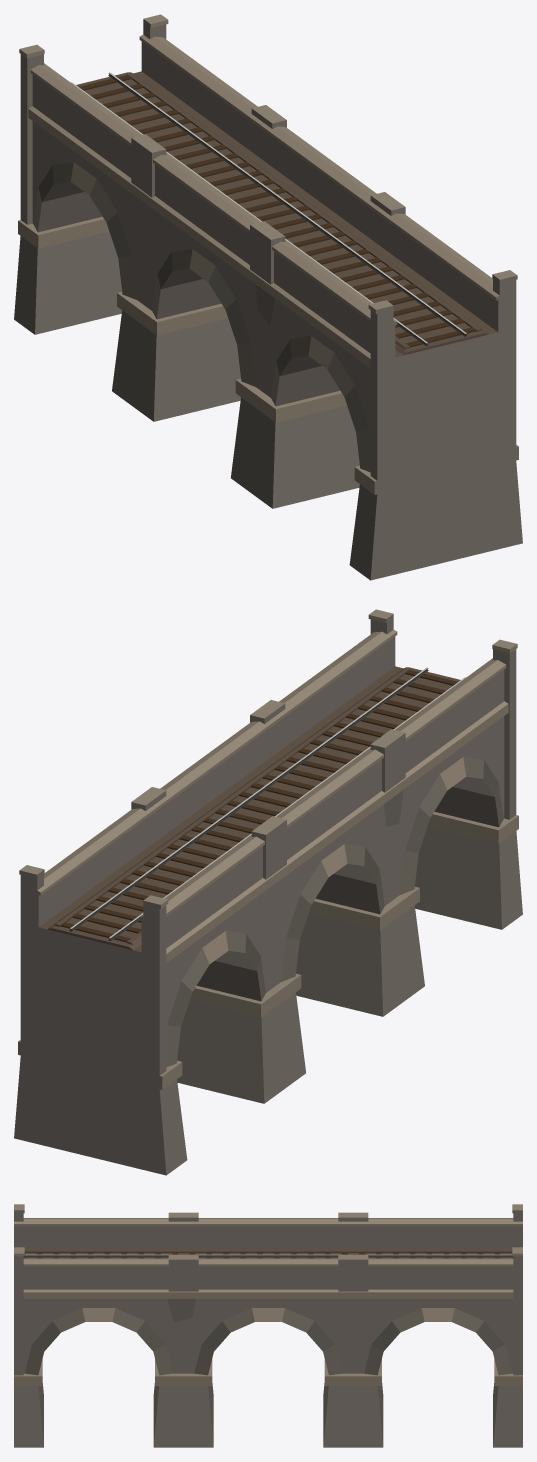
File: stone-viaduct-span-0bd731.glb
The picture shows the model from 3 angles, top to bottom: view 1: azimuth 30°, elevation 25°; view 2: azimuth 150°, elevation 25°; view 3: azimuth 270°, elevation 25°; orthographic projection. The views are drawn at different scales.
Visible parts, largest first — view 1: stone-viaduct-span-body; view 2: stone-viaduct-span-body; view 3: stone-viaduct-span-body.
Part boxes in pixels (bbox=[...]): stone-viaduct-span-body: bbox=[14, 14, 522, 580]; stone-viaduct-span-body: bbox=[14, 609, 522, 1175]; stone-viaduct-span-body: bbox=[14, 1204, 522, 1447].
Size of the model in its own units: 5.92 by 10 by 24.
